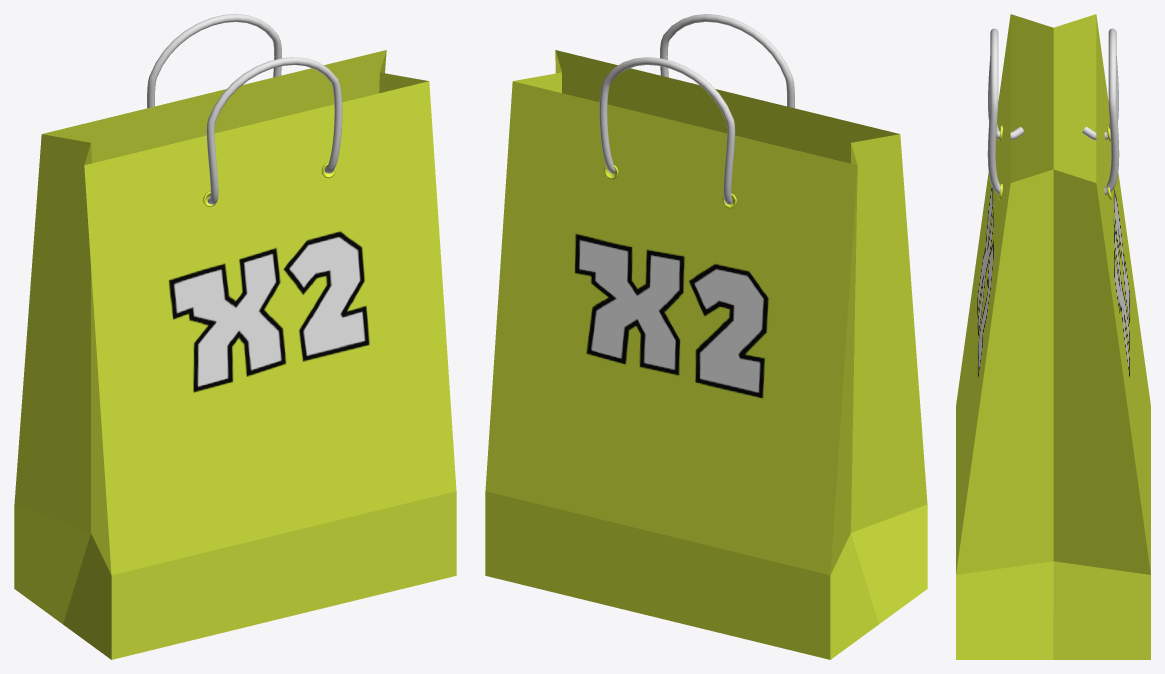
The model's file is shoppingBoostBag.fbx.
3 renders of one model, left to right at view 1: azimuth 30°, elevation 25°; view 2: azimuth 150°, elevation 25°; view 3: azimuth 270°, elevation 25°, orthographic.
Visible parts, largest first — view 1: bag, handle; view 2: bag, handle; view 3: bag, handle.
Boxes of the visible parts, x1=… form: bag: x1=14, y1=50, x2=456, y2=659; handle: x1=147, y1=14, x2=342, y2=204; bag: x1=485, y1=50, x2=927, y2=659; handle: x1=599, y1=14, x2=794, y2=204; bag: x1=956, y1=14, x2=1150, y2=659; handle: x1=987, y1=28, x2=1119, y2=195.
Size of the model in its own units: 200 by 300 by 97.43.
